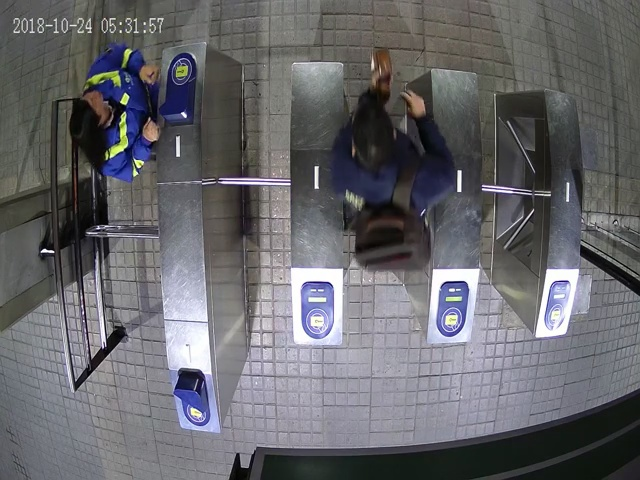Chaleco_azul: (69, 44, 162, 183)
